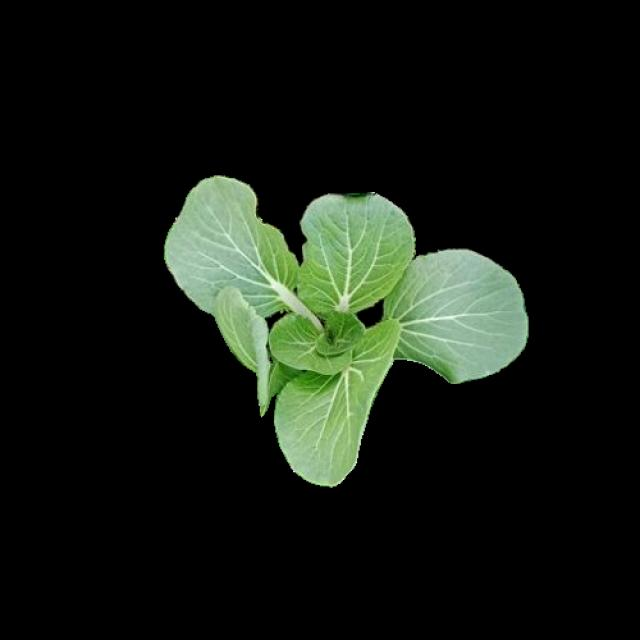healthy: (152, 170, 520, 478)
not-mature: (166, 180, 534, 488)
